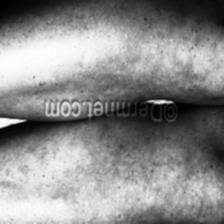Toxin: (0, 8, 204, 88), (0, 144, 170, 224)
